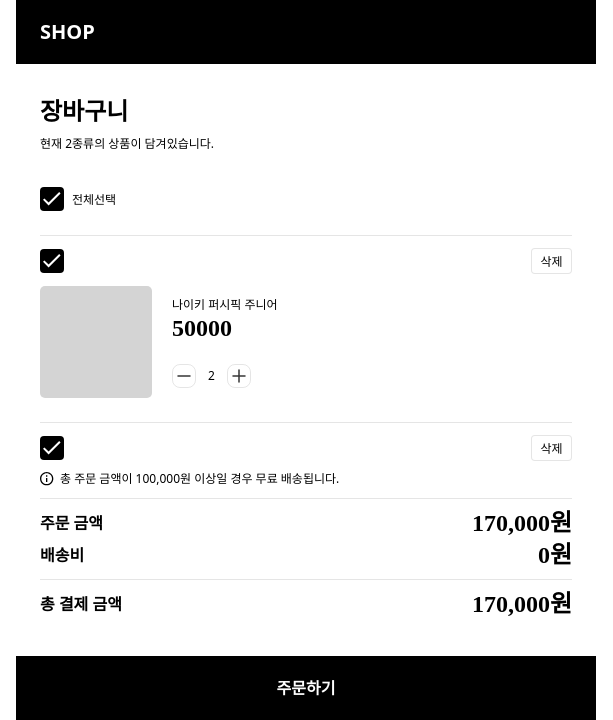
Cart › 전체선택 해제 시 주문하기 버튼이 비활성화된다
Check: the heading "나이키 퍼시픽 주니어" is shown, box [172,296,278,312]
What coordinates should you click on to do the following:
click the text "전체선택"
I would click on:
 (94, 199)
Its box is [72,192,116,206].
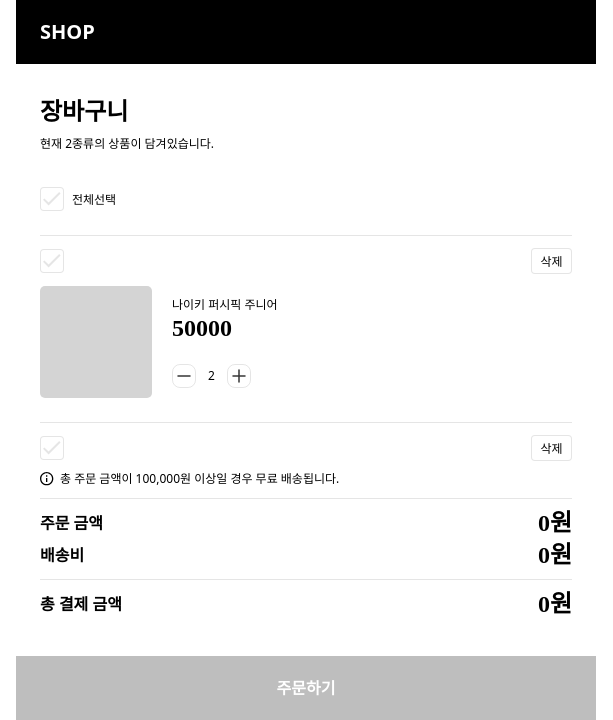
Check: the button "주문하기" is disabled, box [16,656,596,719]
